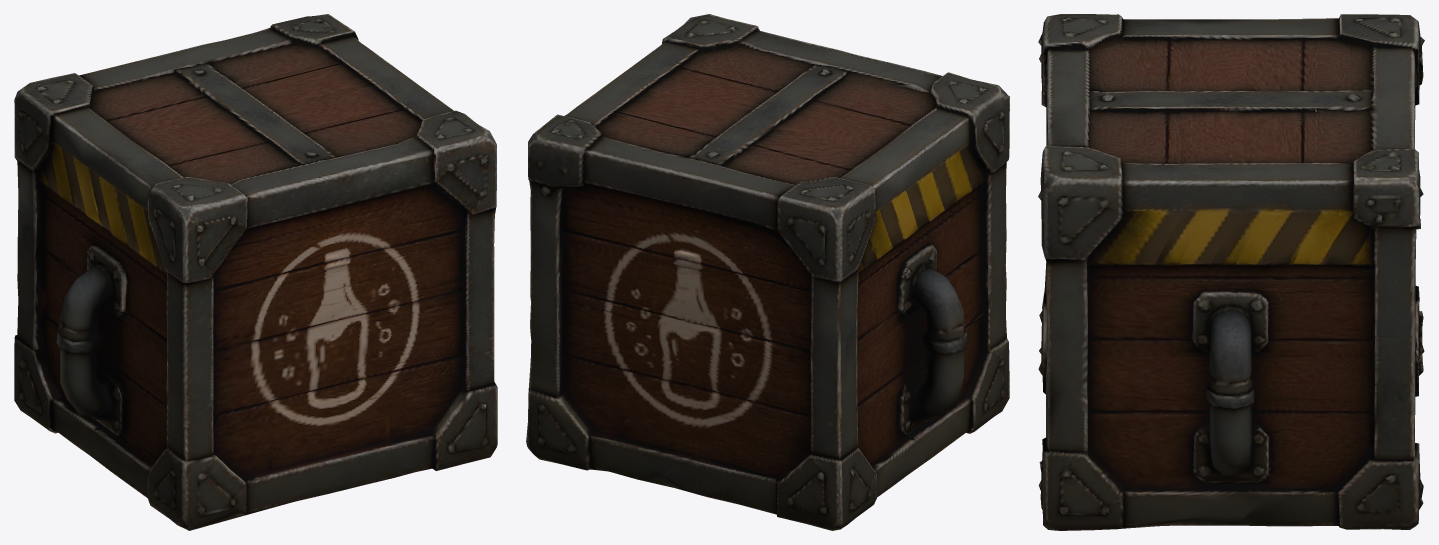
Rendered from laatikko.glb.
3 views of the same model, side by side, from view 1: azimuth 30°, elevation 25°; view 2: azimuth 150°, elevation 25°; view 3: azimuth 270°, elevation 25° (orthographic). The views are drawn at different scales.
Visible parts, largest first — view 1: tripo_node_1012ad25-dba5-4383-928d-b2da2829d566; view 2: tripo_node_1012ad25-dba5-4383-928d-b2da2829d566; view 3: tripo_node_1012ad25-dba5-4383-928d-b2da2829d566.
Part boxes in pixels (x1,y1,x2,y2): tripo_node_1012ad25-dba5-4383-928d-b2da2829d566: (14, 14, 497, 530); tripo_node_1012ad25-dba5-4383-928d-b2da2829d566: (526, 14, 1009, 530); tripo_node_1012ad25-dba5-4383-928d-b2da2829d566: (1038, 14, 1424, 530).
Size of the model in its own units: 1 by 0.8009 by 0.7791.
1 material, 1 textured.
